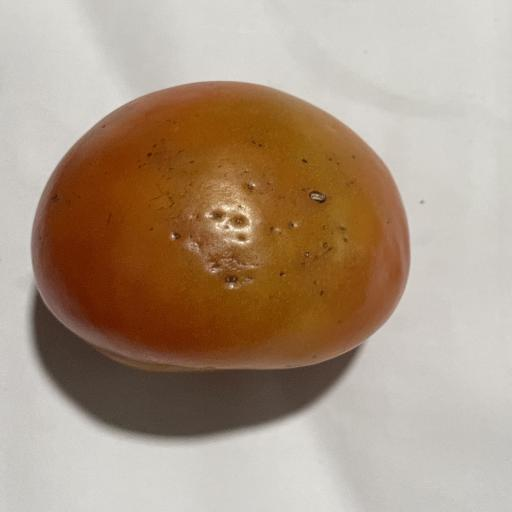overipe: (32, 82, 409, 371)
